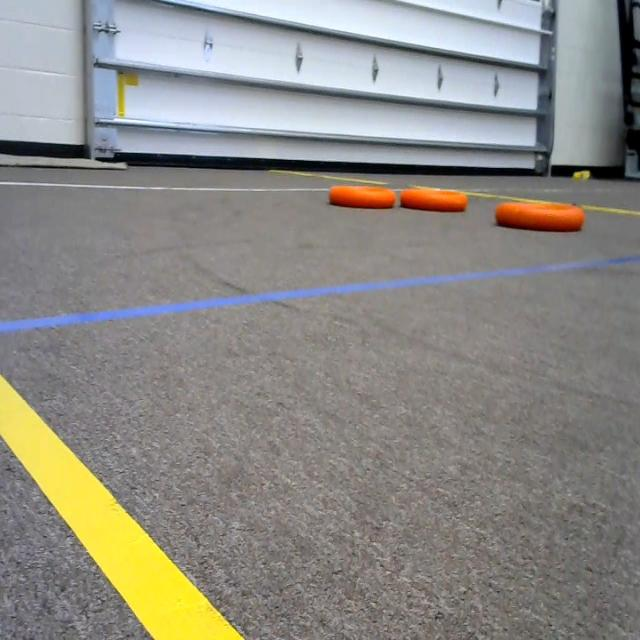note: (492, 190, 598, 247), (323, 168, 397, 221), (403, 173, 474, 226)
